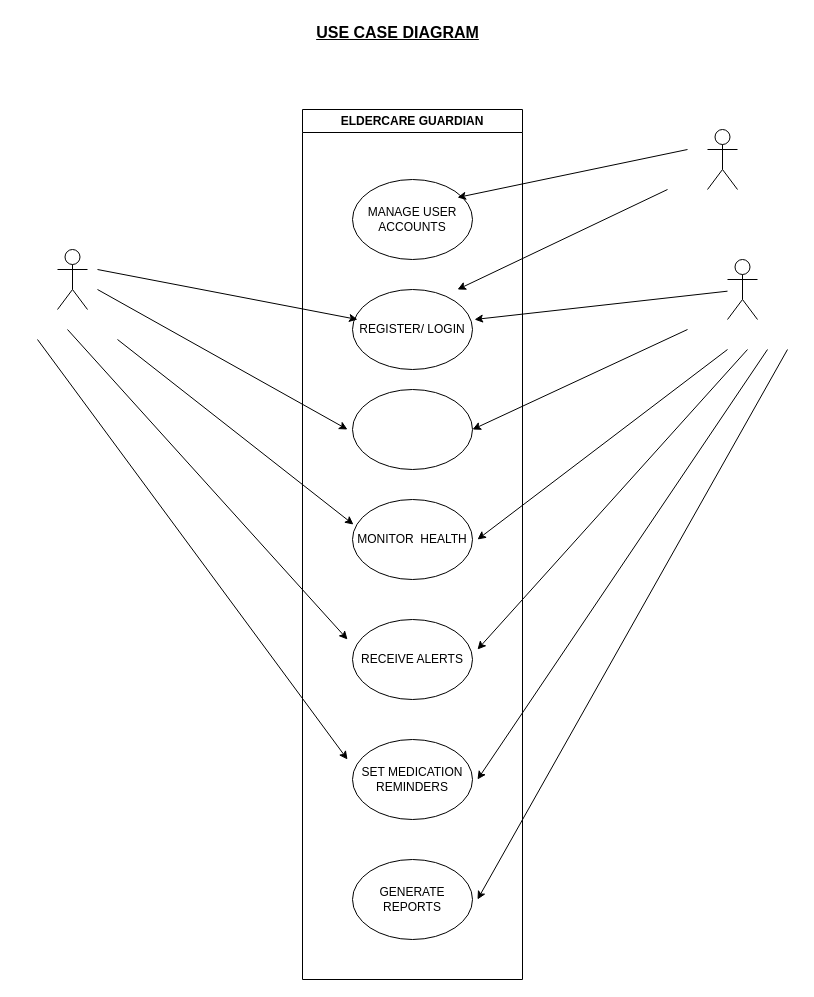
Image size: 814x997. Some labels were removed from this diagram. Each missing label, with the centre of its shape:
DOCTOR/ NURSE: (742,289)
HOME CAREGIVER: (72,279)
INPUT HEALTH DATA: (412,429)
SYSTEM ADMINISTRATOR: (722,159)
